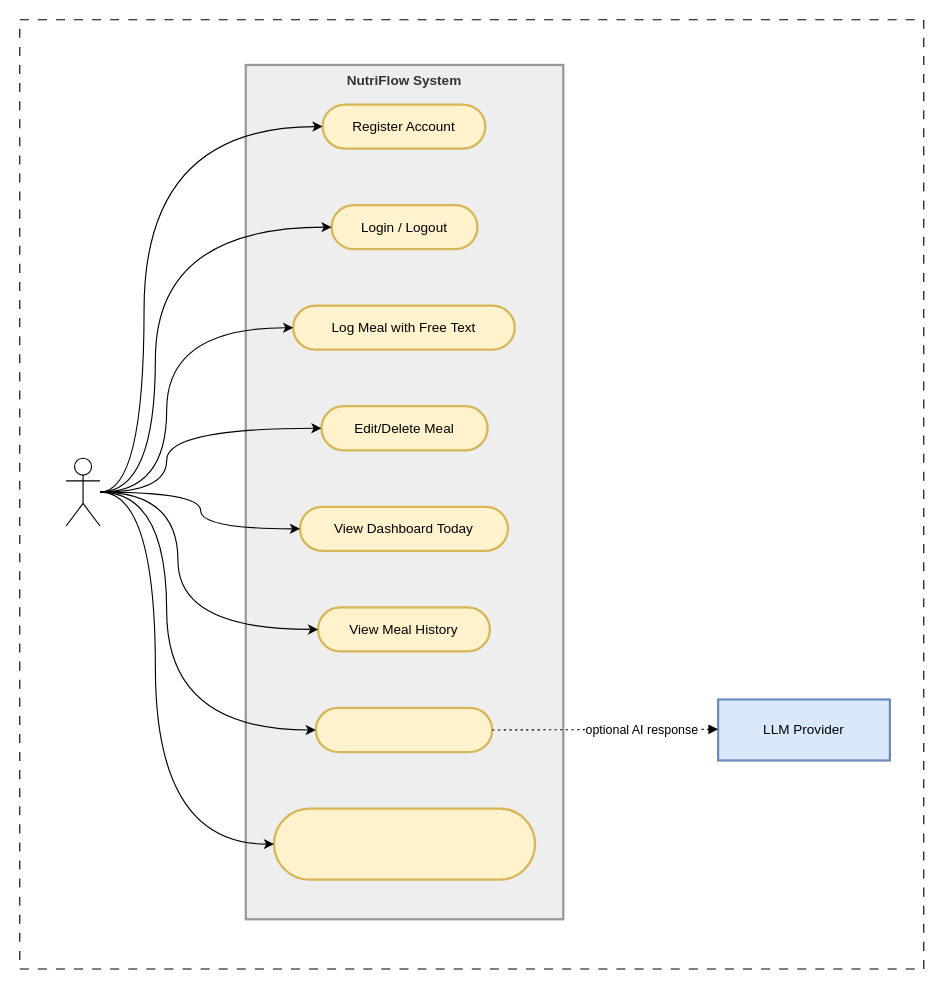
Image size: 944x989. Some labels were removed from this diagram. The shapes that lost their labels are listed below. From the top down, each one's centre as x and y in pixels, then its label:
point (82, 491): Actor
point (403, 729): Ask Nutrition Chat
point (404, 843): Update Settings / Backend URL
